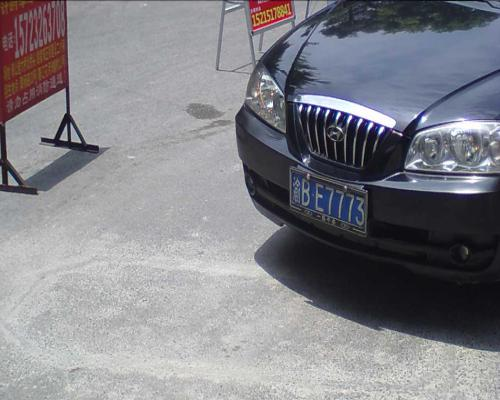Carplate: (281, 162, 374, 238)
